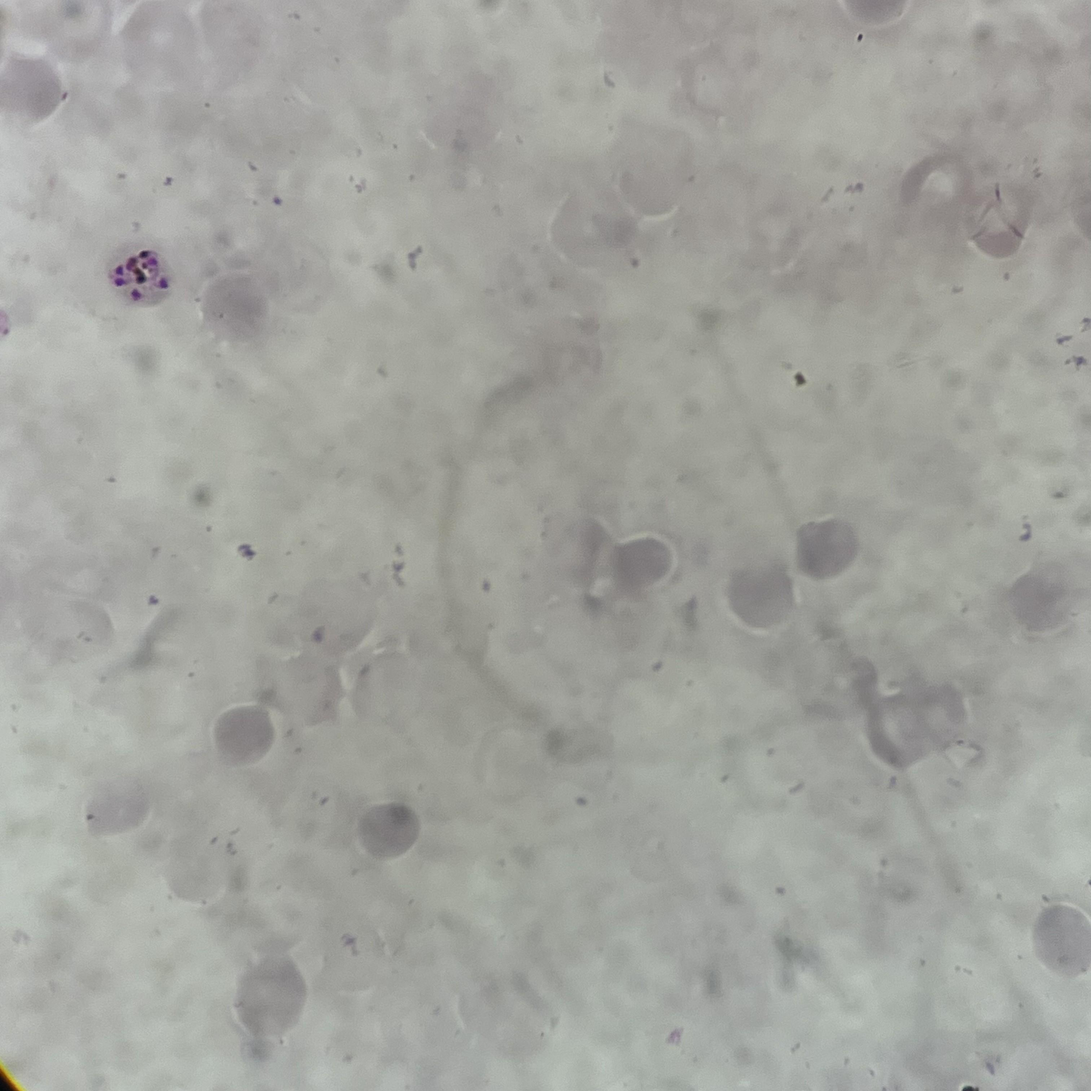Infected: (102, 239, 175, 309)
Uninfected: (232, 957, 301, 1037), (1030, 900, 1091, 979), (210, 700, 273, 770), (796, 519, 858, 584), (358, 803, 419, 861)
